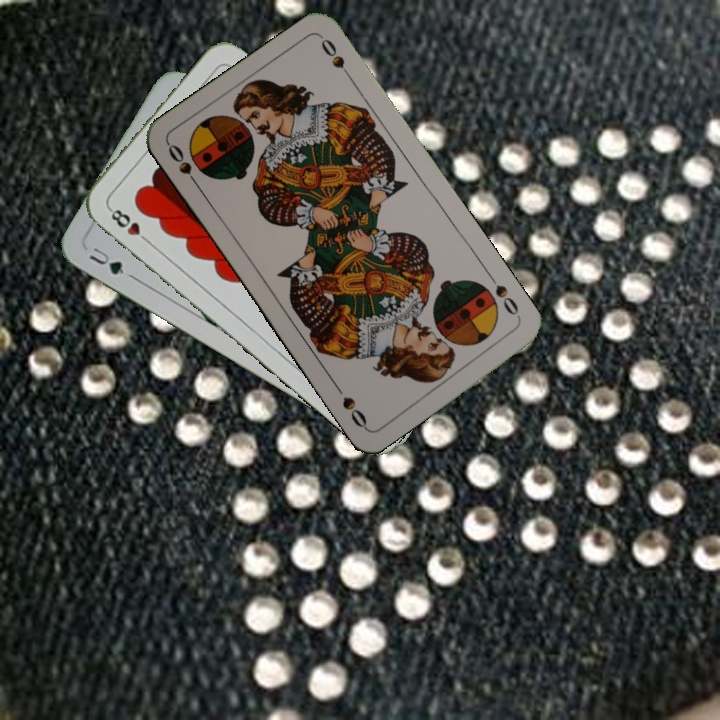GU: (85, 242, 127, 278)
H8: (105, 203, 154, 247)
SO: (163, 140, 204, 192), (490, 280, 524, 323)
